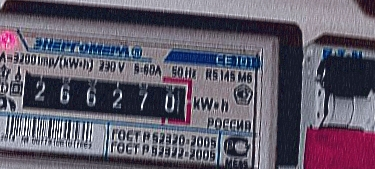0: (160, 90, 175, 111)
2: (29, 79, 46, 100), (107, 86, 123, 107)
6: (55, 81, 70, 103), (82, 85, 97, 106)
7: (133, 89, 147, 109)
screen: (10, 59, 198, 129)
